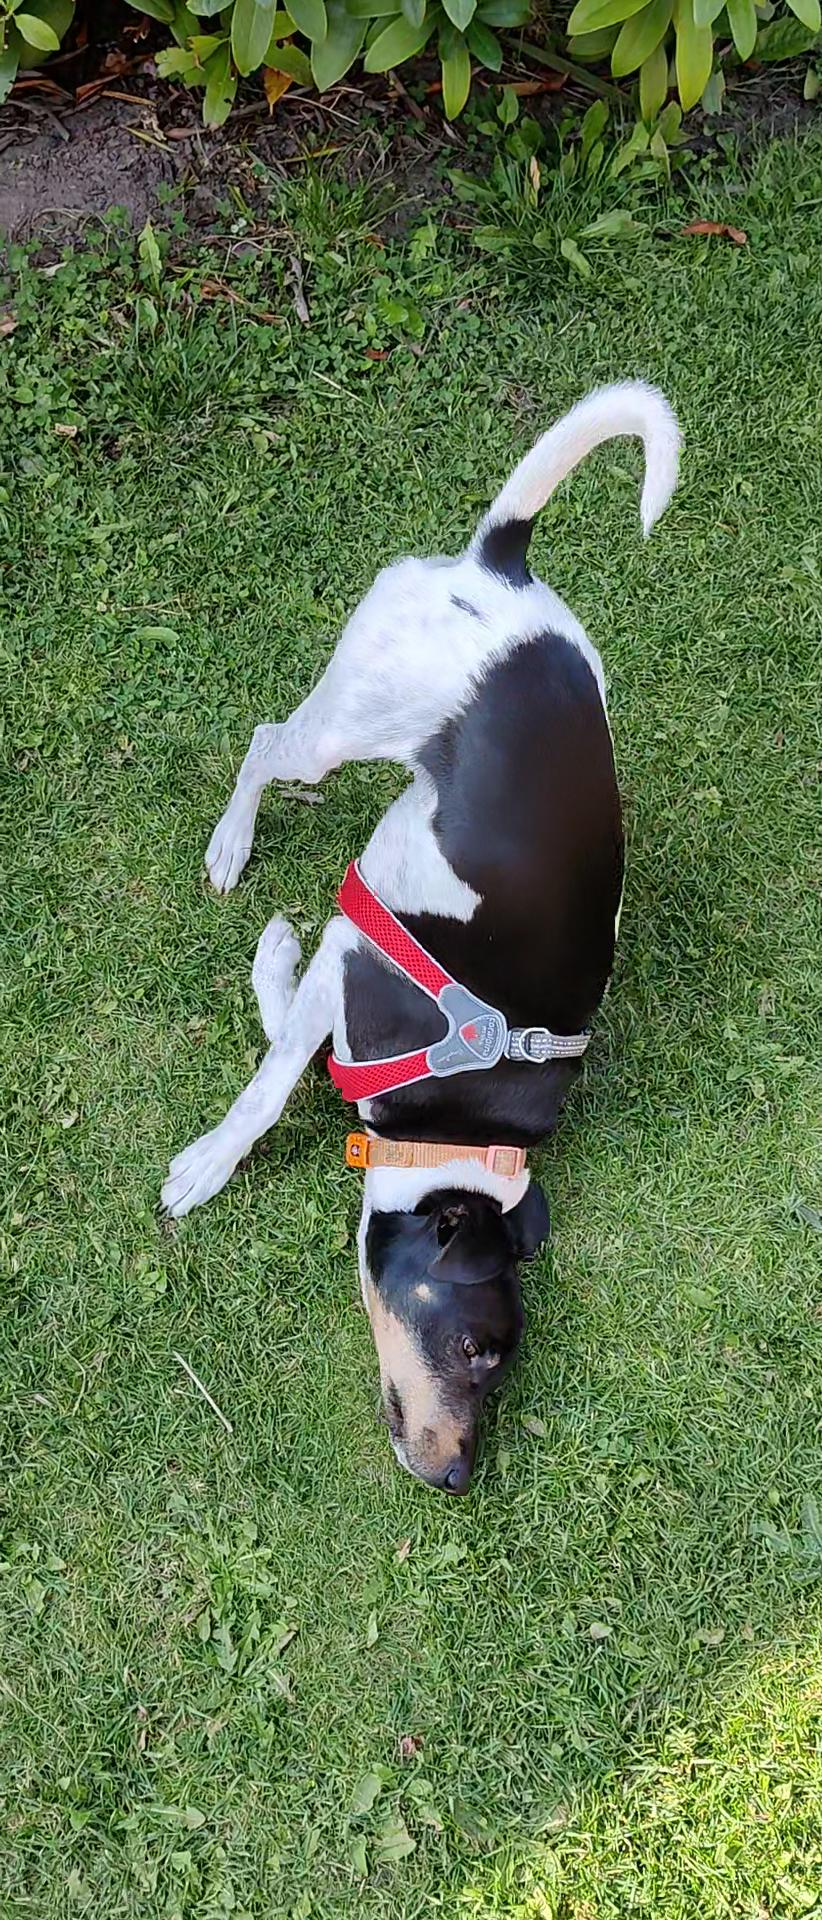Dog: (143, 351, 726, 1515)
